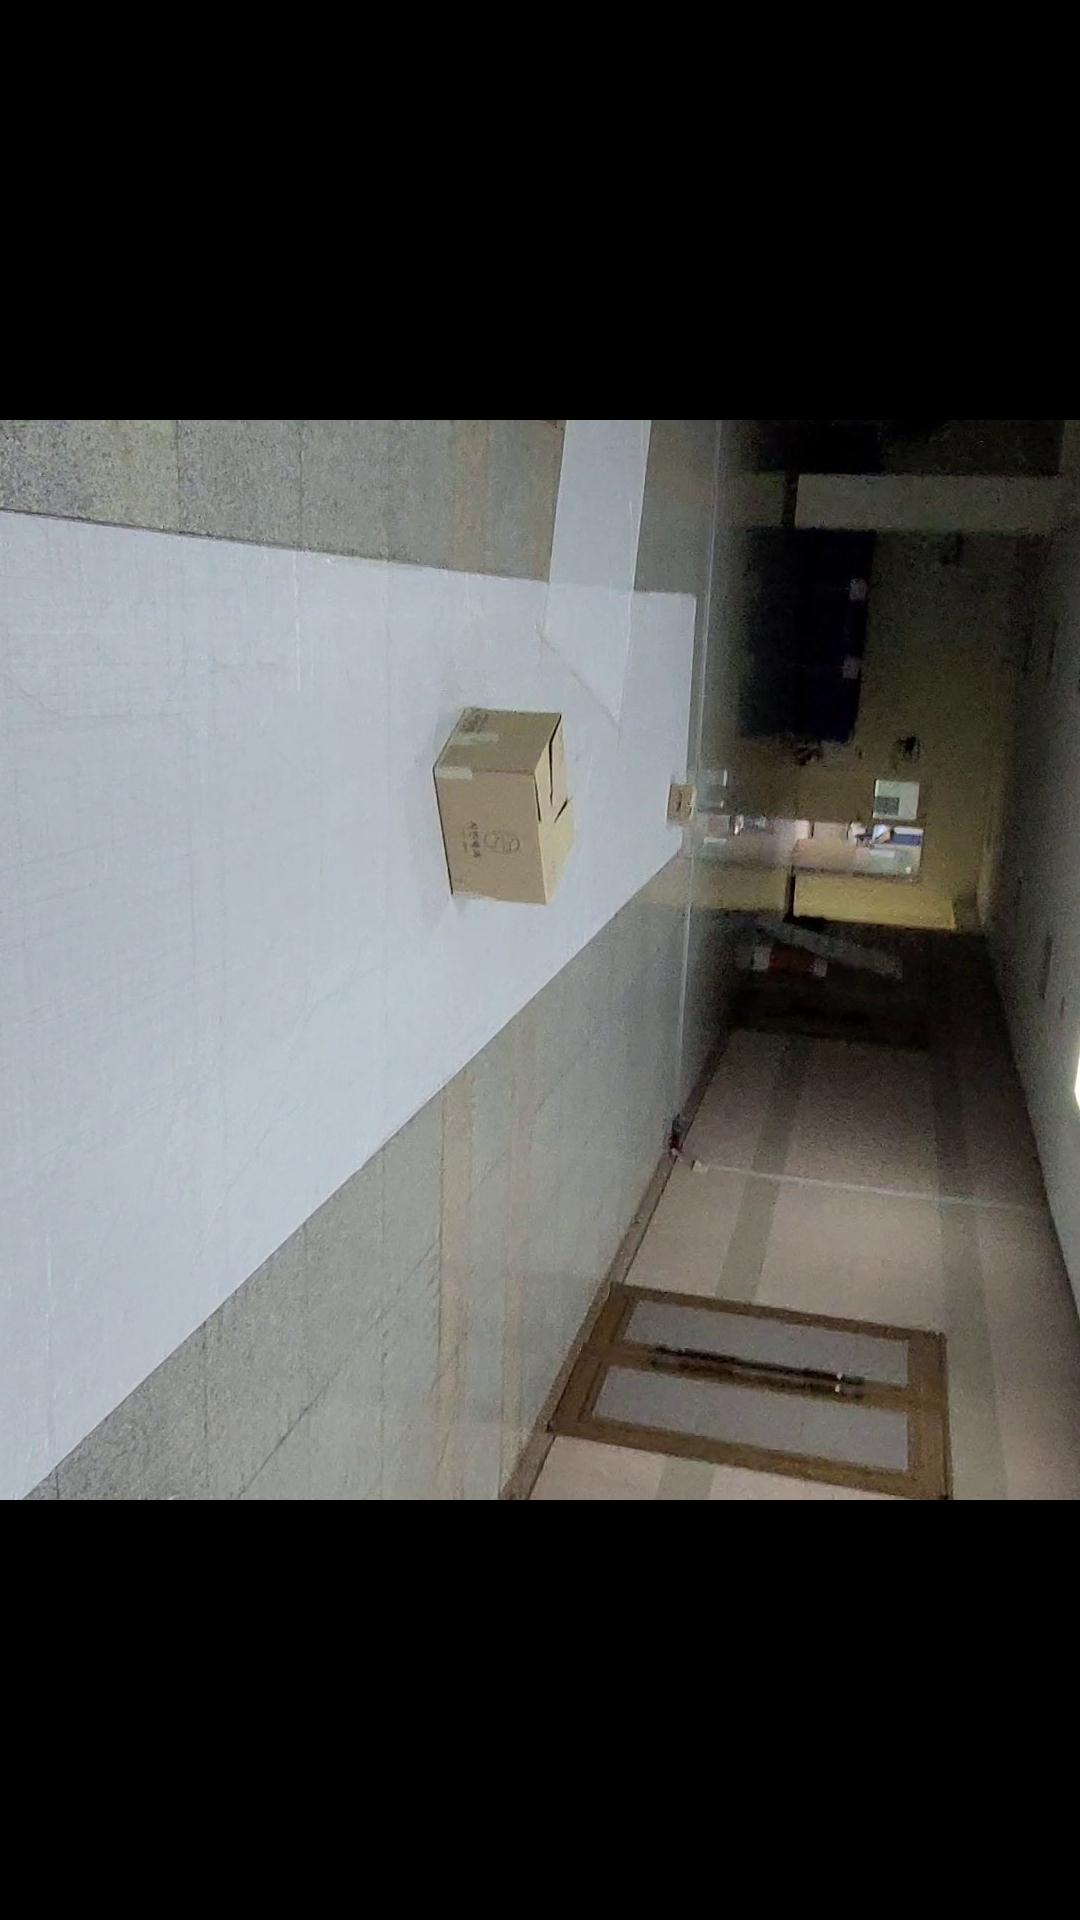Box: (429, 703, 580, 930), (658, 778, 705, 835)
